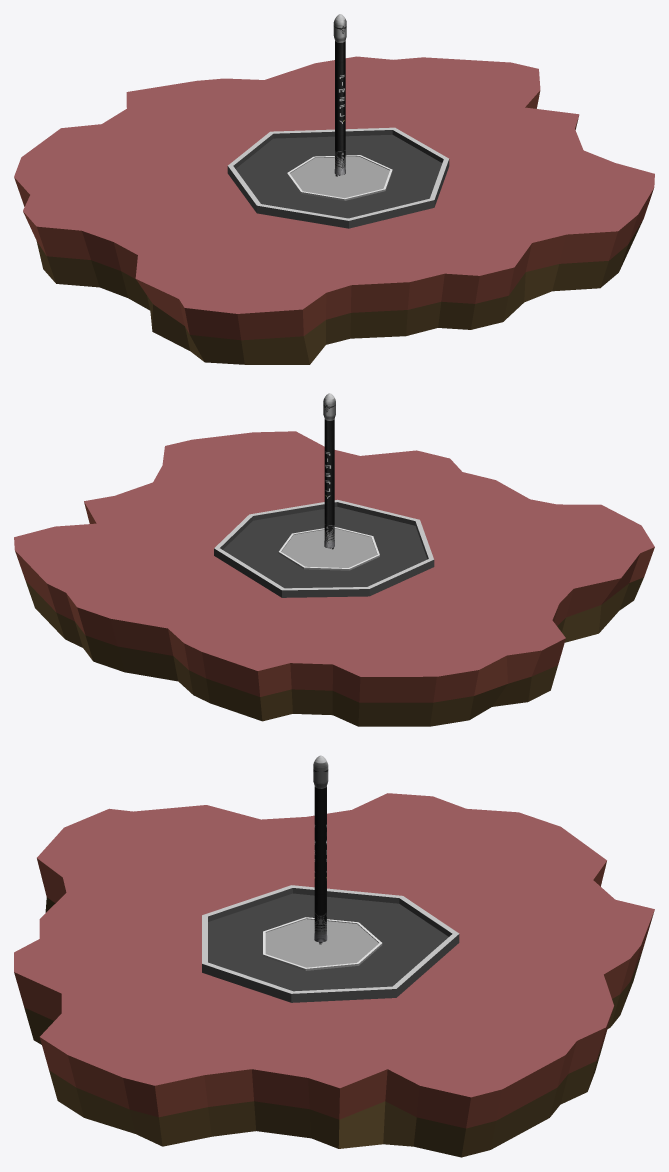
File: Alpha.gltf
3 views of the same model, one above another, from view 1: azimuth 30°, elevation 25°; view 2: azimuth 150°, elevation 25°; view 3: azimuth 270°, elevation 25° (orthographic). The views are drawn at different scales.
Parts seen in each view (by area): view 1: Cylinder.001, Cylinder.005; view 2: Cylinder.001, Cylinder.005; view 3: Cylinder.001, Cylinder.005.
Boxes of the visible parts, x1,y1,x2,y2 form: Cylinder.001: (14, 56, 654, 364); Cylinder.005: (333, 14, 346, 176); Cylinder.001: (14, 431, 654, 726); Cylinder.005: (323, 393, 335, 549); Cylinder.001: (14, 793, 654, 1157); Cylinder.005: (313, 755, 328, 944).
Bounding box in the file's own units: 8.06 × 3.25 × 7.18.
9 materials, 1 textured.
